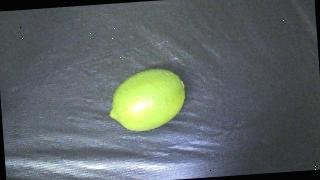LOCAL: (106, 67, 187, 133)
